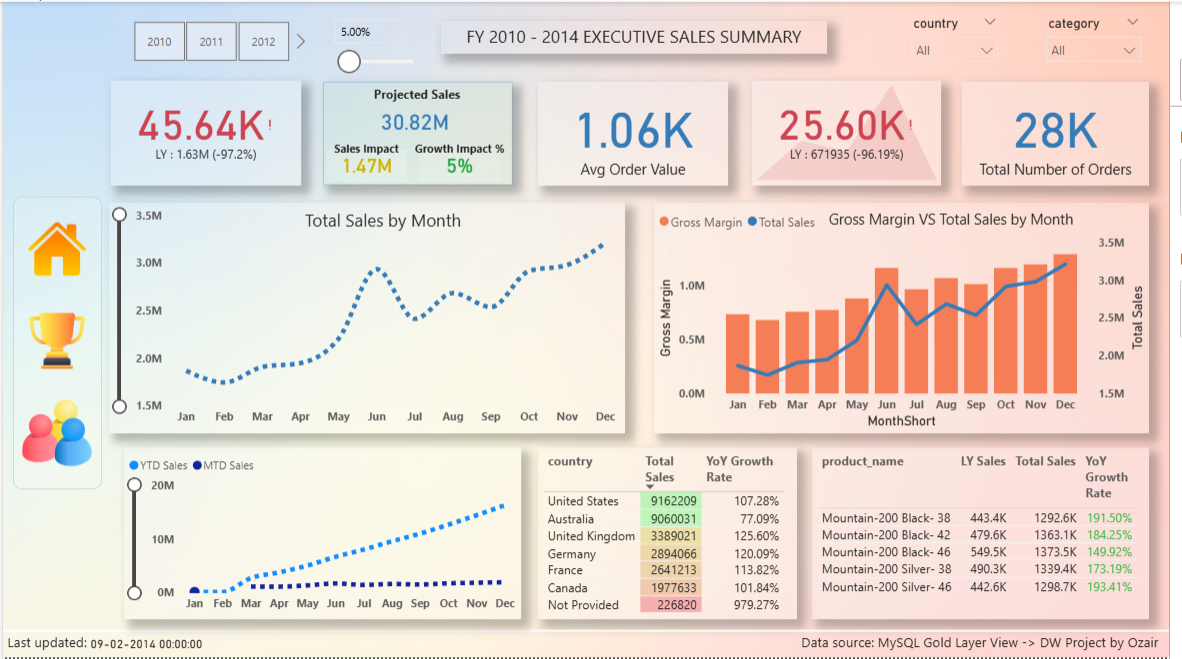

This screenshot's page, from the dashboard's own definition file:
{"tool":"powerbi","page":{"name":"1 - Sales Overview ","canvas":[1280,720],"ordinal":0},"visuals":[{"type":"kpi","fields":{"Indicator":["Key Measures.Total Sales"],"Goal":["Key Measures.LY Sales"],"TrendLine":["DateTable.Date.Variation.Date Hierarchy.Year"]},"box":[117.5,86.9,209.5,115],"z":0},{"type":"card","fields":{"Values":["Table.Avg Order Value"]},"box":[587.9,87.3,208.9,114.4],"z":1000},{"type":"card","fields":{"Values":["Table.Total Number of Orders"]},"box":[1052.8,87.3,206,114.4],"z":2000},{"type":"lineChart","fields":{"Y":["Key Measures.Total Sales"],"Category":["DateTable.MonthShort"]},"box":[117.3,221.1,566.5,253.2],"z":3000},{"type":"lineStackedColumnComboChart","fields":{"Y":["Key Measures.Gross Margin"],"Y2":["Key Measures.Total Sales"],"Category":["DateTable.MonthShort"]},"box":[715.2,221.1,543.6,253.2],"z":4000},{"type":"tableEx","fields":{"Values":["gold_dim_customers.country","Key Measures.Total Sales","Key Measures.YoY Growth Rate"]},"box":[587.7,489.4,283.7,189.1],"z":5000},{"type":"tableEx","fields":{"Values":["gold_dim_products.product_name","Key Measures.LY Sales","Key Measures.Total Sales","Key Measures.YoY Growth Rate"]},"box":[888,489.4,370.5,189.1],"z":6000},{"type":"slicer","fields":{"Values":["gold_dim_customers.country"]},"box":[987,10,115.9,65.8],"z":7000},{"type":"slicer","fields":{"Values":["gold_dim_products.category"]},"box":[1134.4,10,124.5,65.8],"z":8000},{"type":"slicer","fields":{"Values":["DateTable.Date.Variation.Date Hierarchy.Year"]},"box":[117.5,15.3,219.8,56.2],"z":9000},{"type":"textbox","box":[480.6,20,424.9,35.8],"z":10000},{"type":"textbox","box":[10.7,214,97.3,321.9],"z":11000},{"type":"image","box":[17.9,232.6,83,77.2],"z":12000},{"type":"image","box":[16.5,335.6,85.8,73],"z":13000},{"type":"image","box":[16.5,431.4,85.8,85.8],"z":14000},{"type":"textbox","box":[326.2,221.7,190.3,44.3],"z":15000},{"type":"textbox","box":[901.2,221.7,287.5,44.3],"z":16000},{"type":"textbox","box":[871.2,689.5,409.1,30],"z":17000},{"type":"shape","box":[0,685.2,1280,12.9],"z":18000},{"type":"textbox","box":[0,689.5,107.3,30],"z":19000},{"type":"card","fields":{"Values":["Key Measures.LastRefreshDate"]},"box":[74.4,692.4,167.4,27.2],"z":20000},{"type":"slicer","fields":{"Values":["Sales Growth Scenario.Sales Growth Scenario"]},"box":[351.4,10.2,120.1,77.9],"z":21000},{"type":"lineChart","fields":{"Y":["Key Measures.YTD Sales","Key Measures.MTD Sales"],"Category":["DateTable.MonthShort"]},"box":[132.9,489.4,435.7,189.1],"z":22000},{"type":"card","fields":{"Values":["Key Measures.Sales Impact"]},"box":[355.2,162.3,88.2,35.8],"z":23000},{"type":"card","fields":{"Values":["Key Measures.Growth Impact %"]},"box":[457.4,162.3,88.2,35.8],"z":24000},{"type":"shape","box":[351.4,88.2,208.3,113.7],"z":25000},{"type":"card","fields":{"Values":["Key Measures.Projected Sales"]},"box":[354.9,112.9,194.2,38.3],"z":26000},{"type":"textbox","box":[402.5,88.2,111.2,29.4],"z":27000},{"type":"textbox","box":[348.8,146.9,100.9,29.4],"z":28000},{"type":"textbox","box":[443.4,146.9,116.3,29.4],"z":29000},{"type":"kpi","fields":{"Goal":["Key Measures.LY Margin"],"Indicator":["Key Measures.Gross Margin"],"TrendLine":["DateTable.Date.Variation.Date Hierarchy.Year"]},"box":[821.6,86.9,208.3,115],"z":30000}]}

Visuals, with their boxes in screenshot pixels (x1, y1, x2, y2), scaled from the page's 1280x720 canvas onto the 1182x659 screenshot:
kpi - Key Measures.Total Sales x Key Measures.LY Sales: BBox(109, 80, 302, 185)
card - Table.Avg Order Value: BBox(543, 80, 736, 185)
card - Table.Total Number of Orders: BBox(972, 80, 1162, 185)
lineChart - Key Measures.Total Sales x DateTable.MonthShort: BBox(108, 202, 631, 434)
lineStackedColumnComboChart - Key Measures.Gross Margin x Key Measures.Total Sales: BBox(660, 202, 1162, 434)
tableEx - gold_dim_customers.country x Key Measures.Total Sales: BBox(543, 448, 805, 621)
tableEx - gold_dim_products.product_name x Key Measures.LY Sales: BBox(820, 448, 1162, 621)
slicer - gold_dim_customers.country: BBox(911, 9, 1018, 69)
slicer - gold_dim_products.category: BBox(1048, 9, 1163, 69)
slicer - DateTable.Date.Variation.Date Hierarchy.Year: BBox(109, 14, 311, 65)
textbox: BBox(444, 18, 836, 51)
textbox: BBox(10, 196, 100, 490)
image: BBox(17, 213, 93, 284)
image: BBox(15, 307, 94, 374)
image: BBox(15, 395, 94, 473)
textbox: BBox(301, 203, 477, 243)
textbox: BBox(832, 203, 1098, 243)
textbox: BBox(804, 631, 1181, 658)
shape: BBox(0, 627, 1181, 639)
textbox: BBox(0, 631, 99, 658)
card - Key Measures.LastRefreshDate: BBox(69, 634, 223, 658)
slicer - Sales Growth Scenario.Sales Growth Scenario: BBox(324, 9, 435, 81)
lineChart - Key Measures.YTD Sales x Key Measures.MTD Sales: BBox(123, 448, 525, 621)
card - Key Measures.Sales Impact: BBox(328, 149, 409, 181)
card - Key Measures.Growth Impact %: BBox(422, 149, 504, 181)
shape: BBox(324, 81, 517, 185)
card - Key Measures.Projected Sales: BBox(328, 103, 507, 138)
textbox: BBox(372, 81, 474, 108)
textbox: BBox(322, 134, 415, 161)
textbox: BBox(409, 134, 517, 161)
kpi - Key Measures.LY Margin x Key Measures.Gross Margin: BBox(759, 80, 951, 185)
